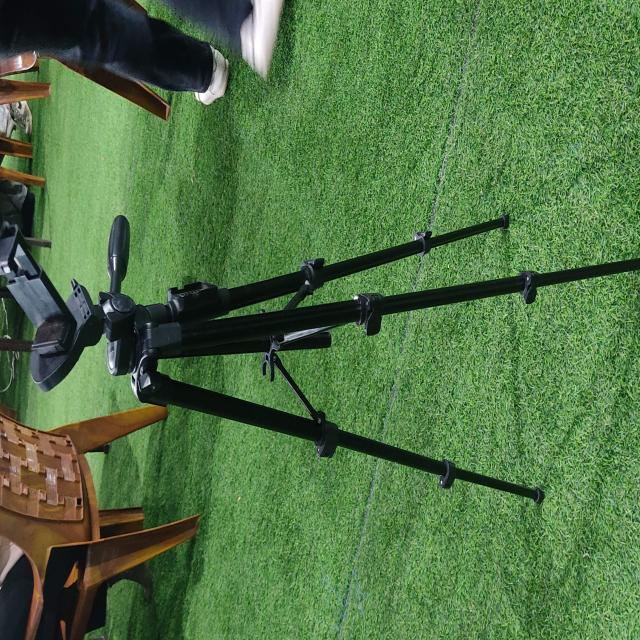Camer Stand: (2, 209, 638, 511)
